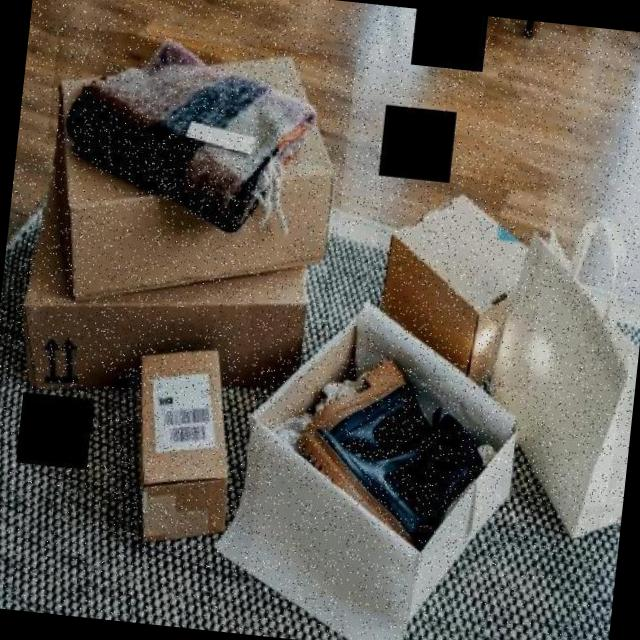box: (0, 135, 338, 434), (29, 26, 356, 332), (362, 167, 549, 390), (103, 346, 270, 579)
